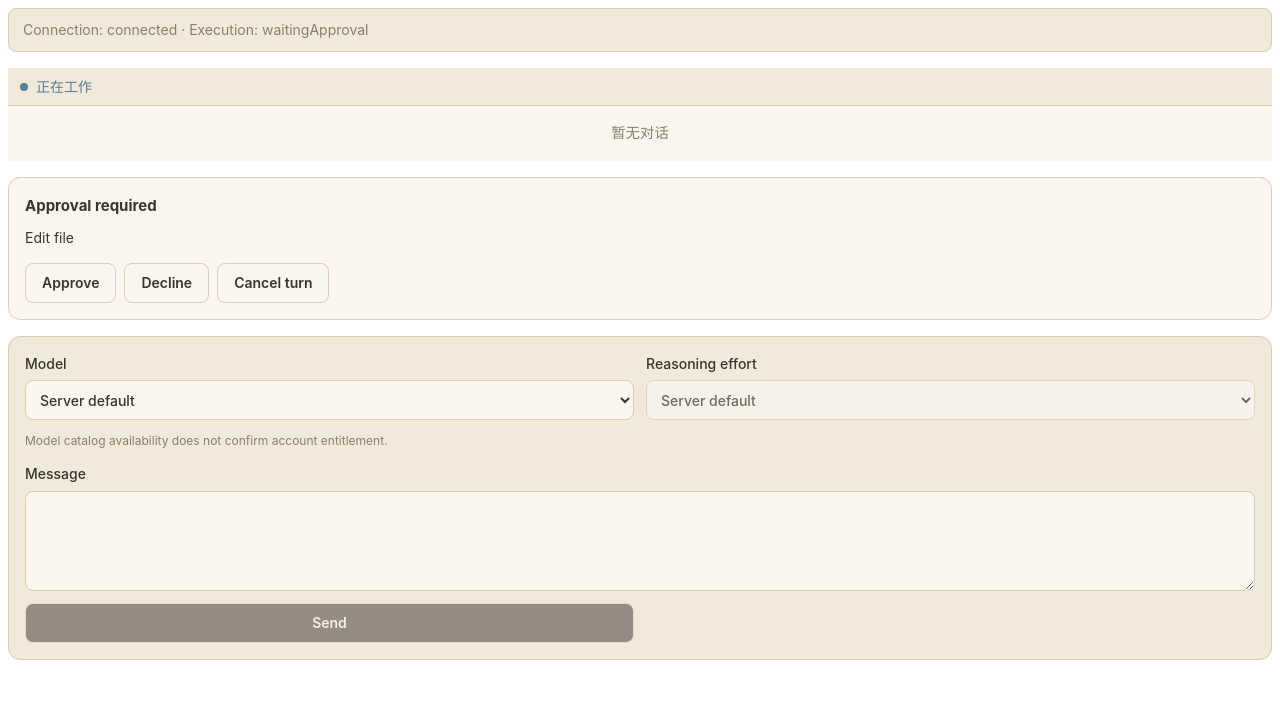
Test case: CodexSession › preserves original approval IDs, waits for an explicit decision and disables duplicate replies
Click the button "Approve" at coordinates (71, 283), box [25, 263, 116, 303]
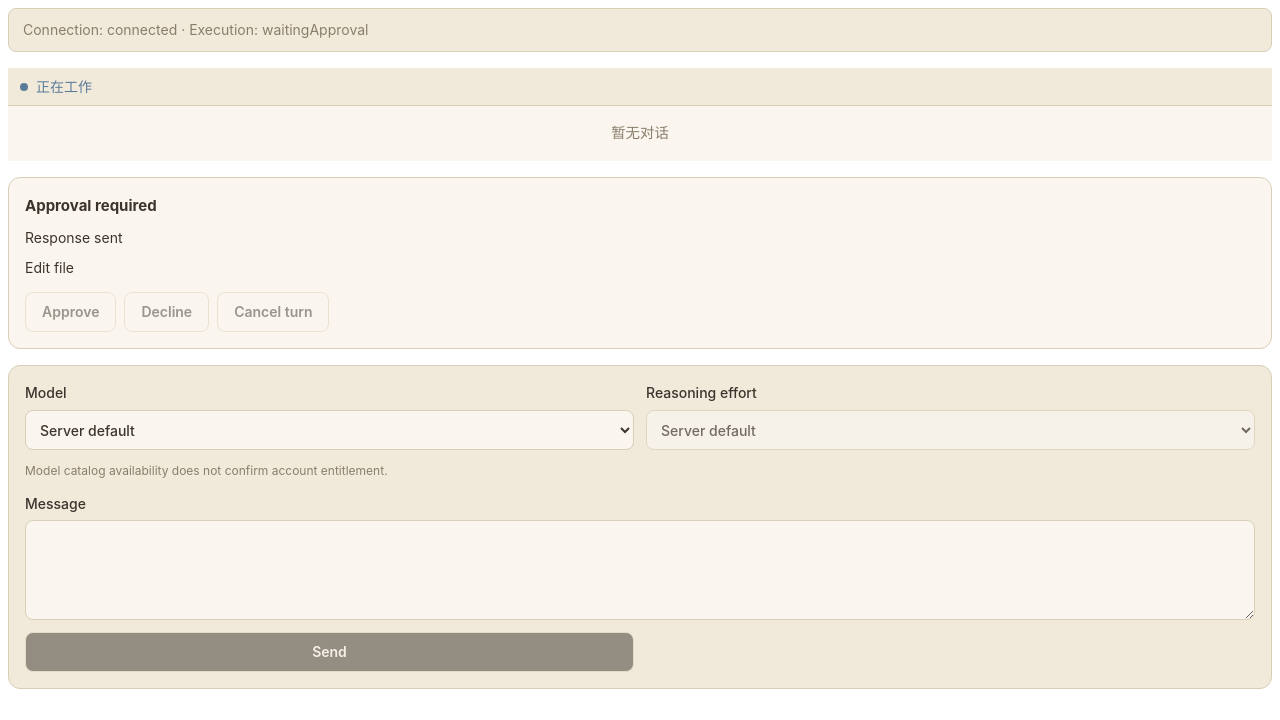
Expected: the button "Approve" is disabled, [25, 292, 116, 332]
Expected: the text "Response sent" is shown, [25, 229, 122, 246]
Expected: the button "Decline" is disabled, [124, 292, 209, 332]
